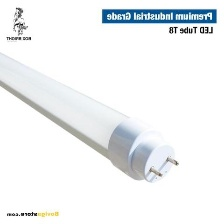light_bulb: (0, 40, 183, 188)
